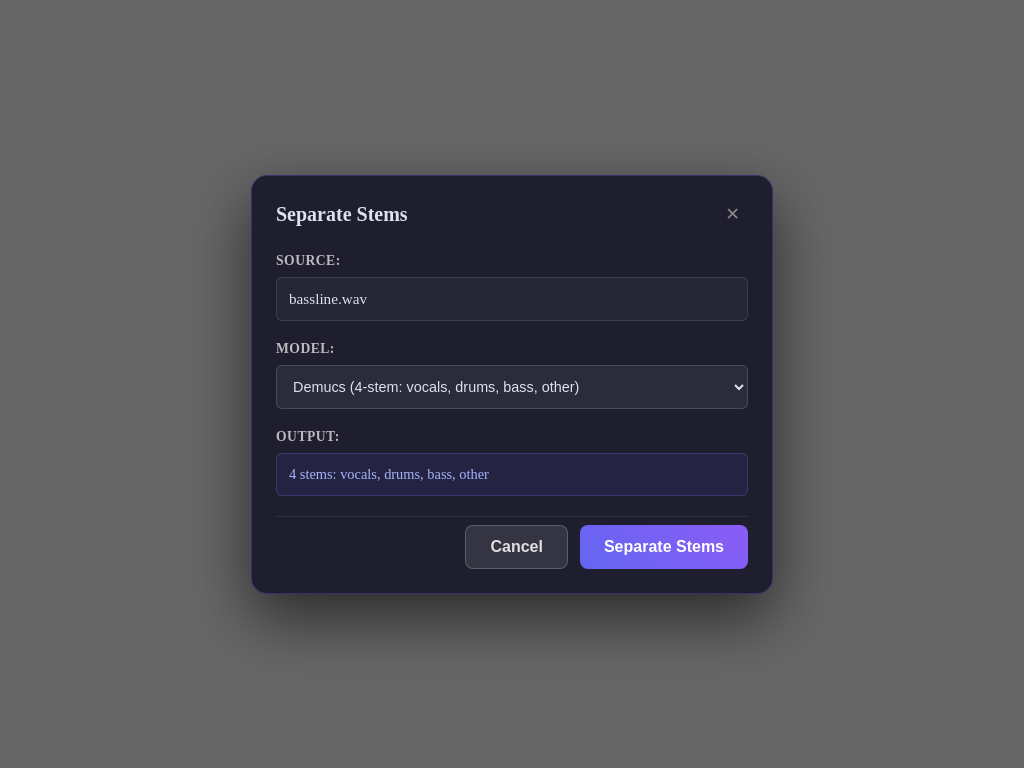
StemSeparationModal — separation flow › shows error message on separation failure
The image size is (1024, 768).
Step 1. Click the button "Separate Stems" → (664, 546), box [580, 524, 748, 568]
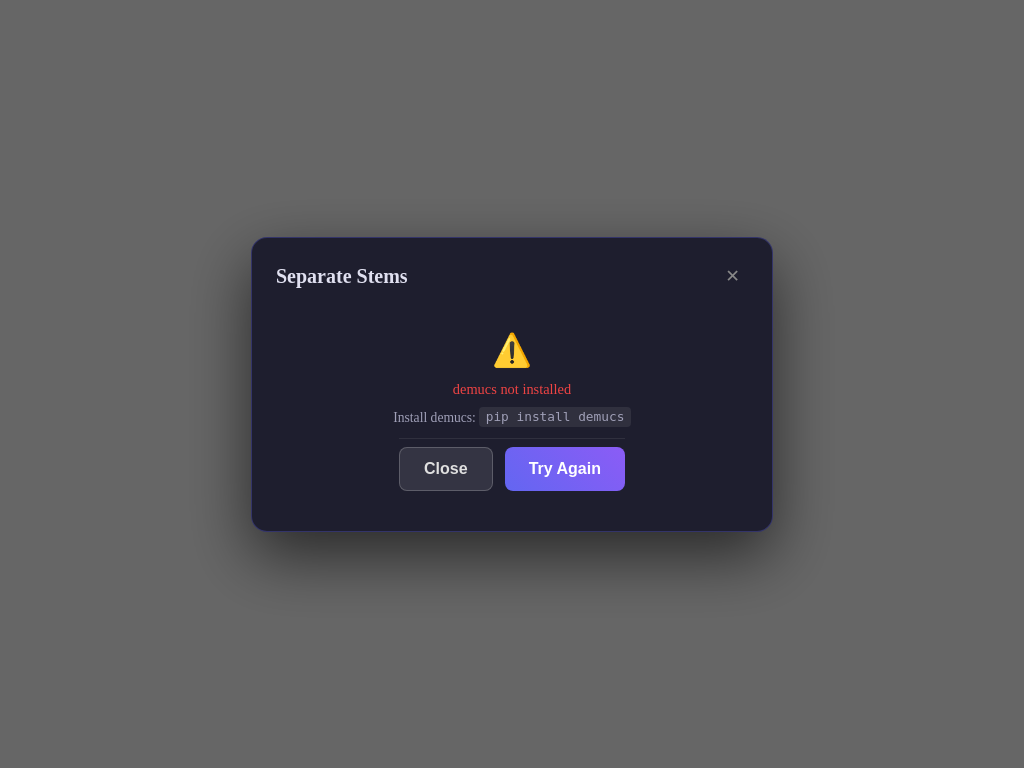
Check: the text "demucs not installed" is shown, box [453, 380, 571, 398]
